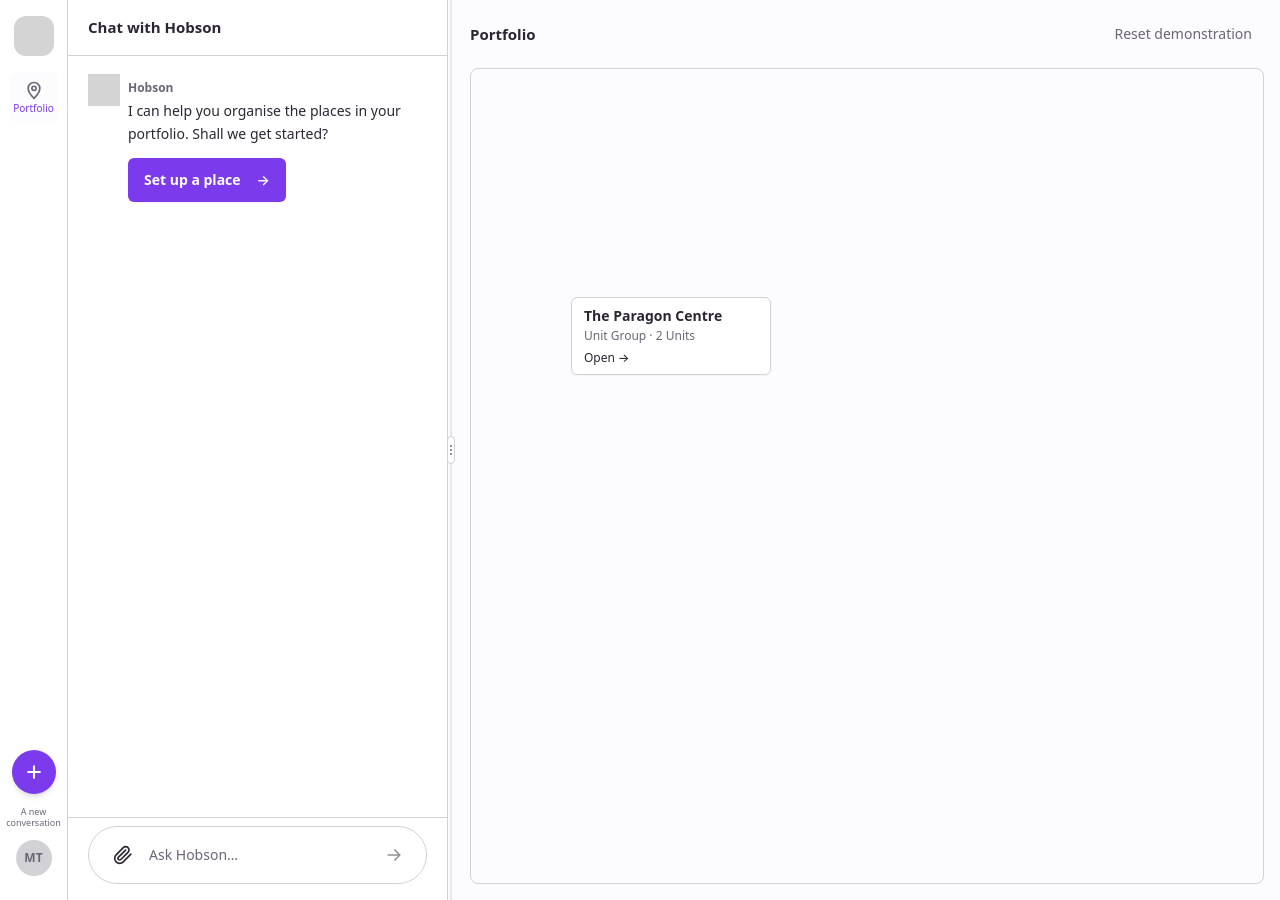
Scenario: The Paragon Centre in place › shows the gym's recorded parties and Not recorded for rent and break, separately from its description
Click the button with aria-label "Open The Paragon Centre": (671, 336) [571,297,771,375]
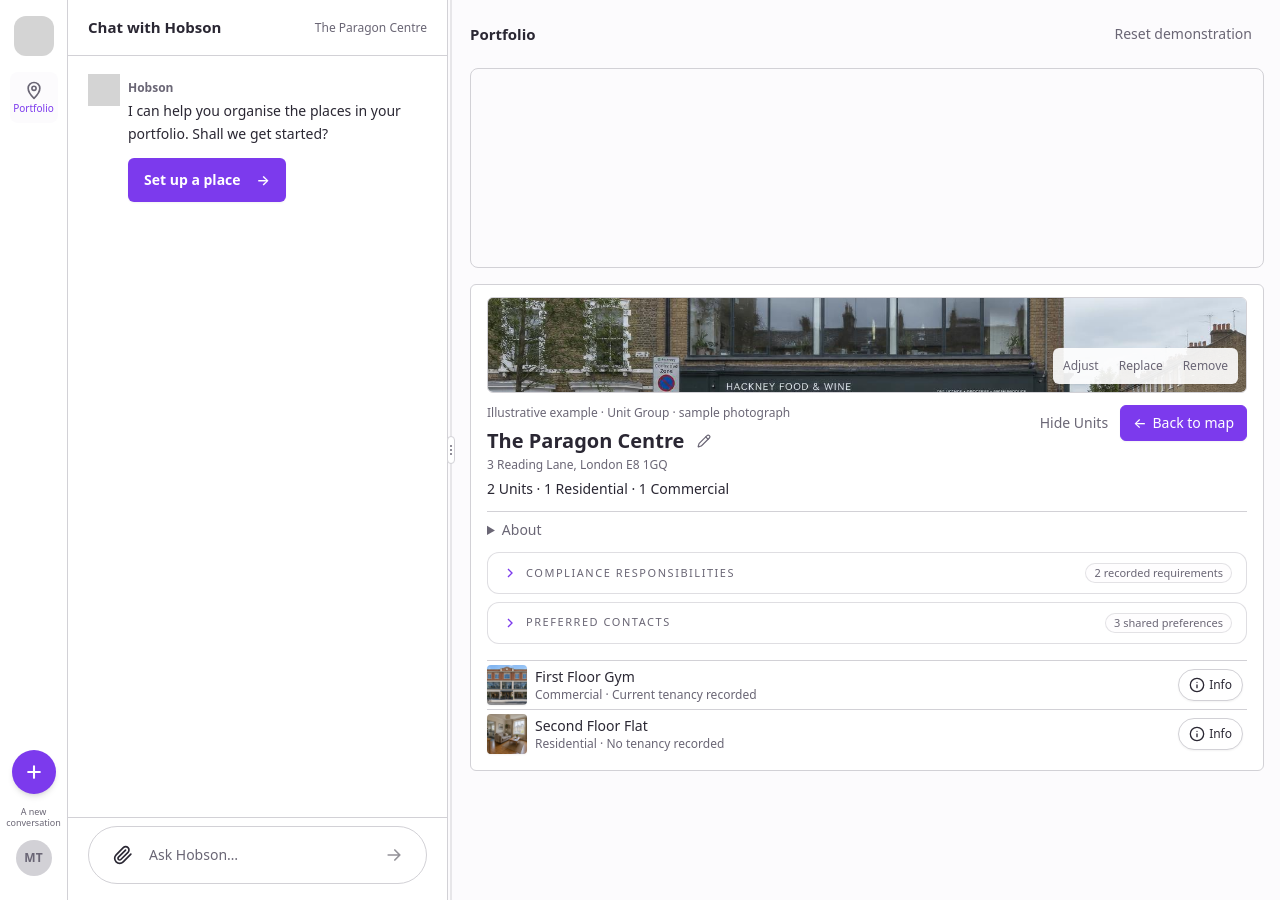
Click the button with aria-label "What Hobson knows about First Floor Gym": (1211, 684) [1178,668,1243,700]
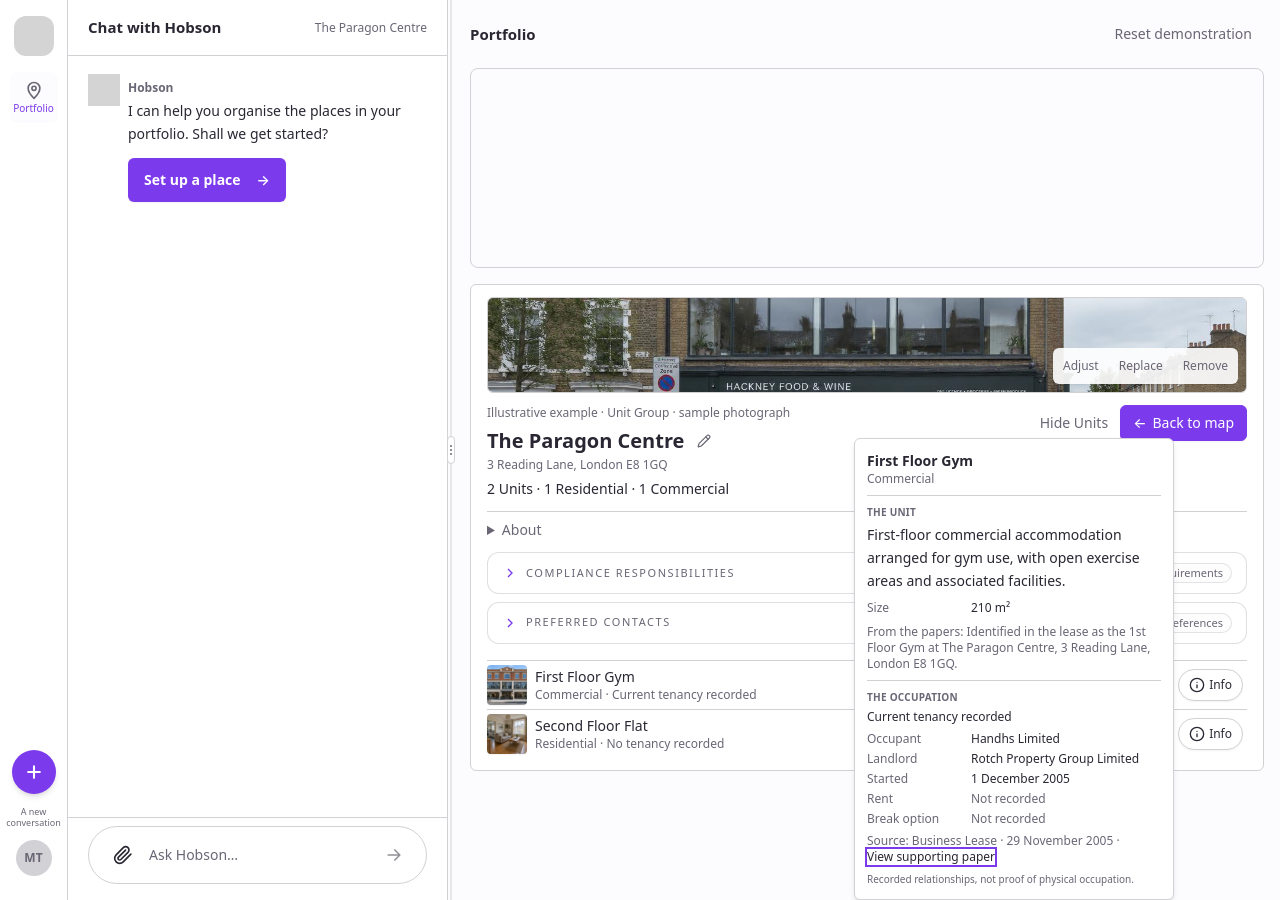
Result: the text "Handhs Limited" is shown at [971,730,1060,747]
Result: the text "Rotch Property Group Limited" is shown at [971,751,1161,767]
Result: the text "1 December 2005" is shown at [971,770,1070,787]
